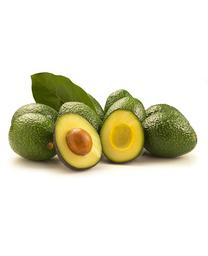avocado: (139, 103, 198, 159), (54, 112, 102, 171), (99, 107, 145, 165), (8, 113, 61, 162)
